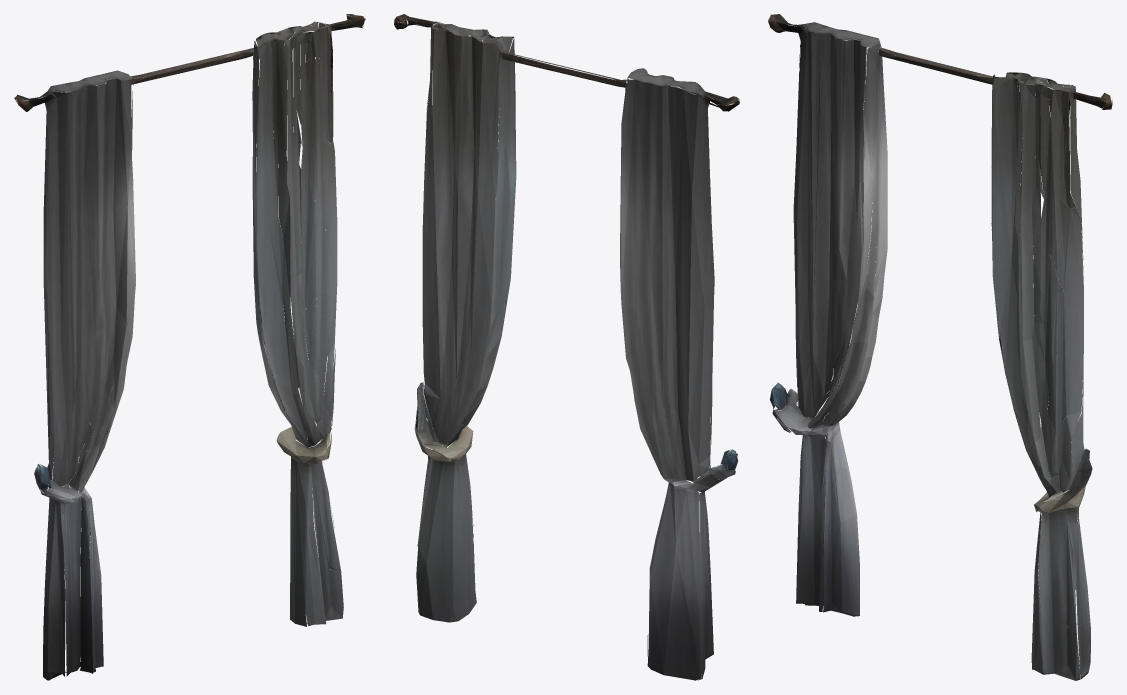
File: curtains.glb
The picture shows the model from 3 angles, left to right: view 1: azimuth 30°, elevation 25°; view 2: azimuth 150°, elevation 25°; view 3: azimuth 330°, elevation 25°; orthographic projection.
Visible parts, largest first — view 1: geometry_0; view 2: geometry_0; view 3: geometry_0.
Boxes of the visible parts, box(x1,y1,x2,y2) form: geometry_0: box(14, 14, 365, 680); geometry_0: box(394, 14, 739, 680); geometry_0: box(768, 14, 1112, 680).
Bounding box in the file's own units: 0.6152 × 1 × 0.1154.
Materials: 1 (1 with a texture image).
